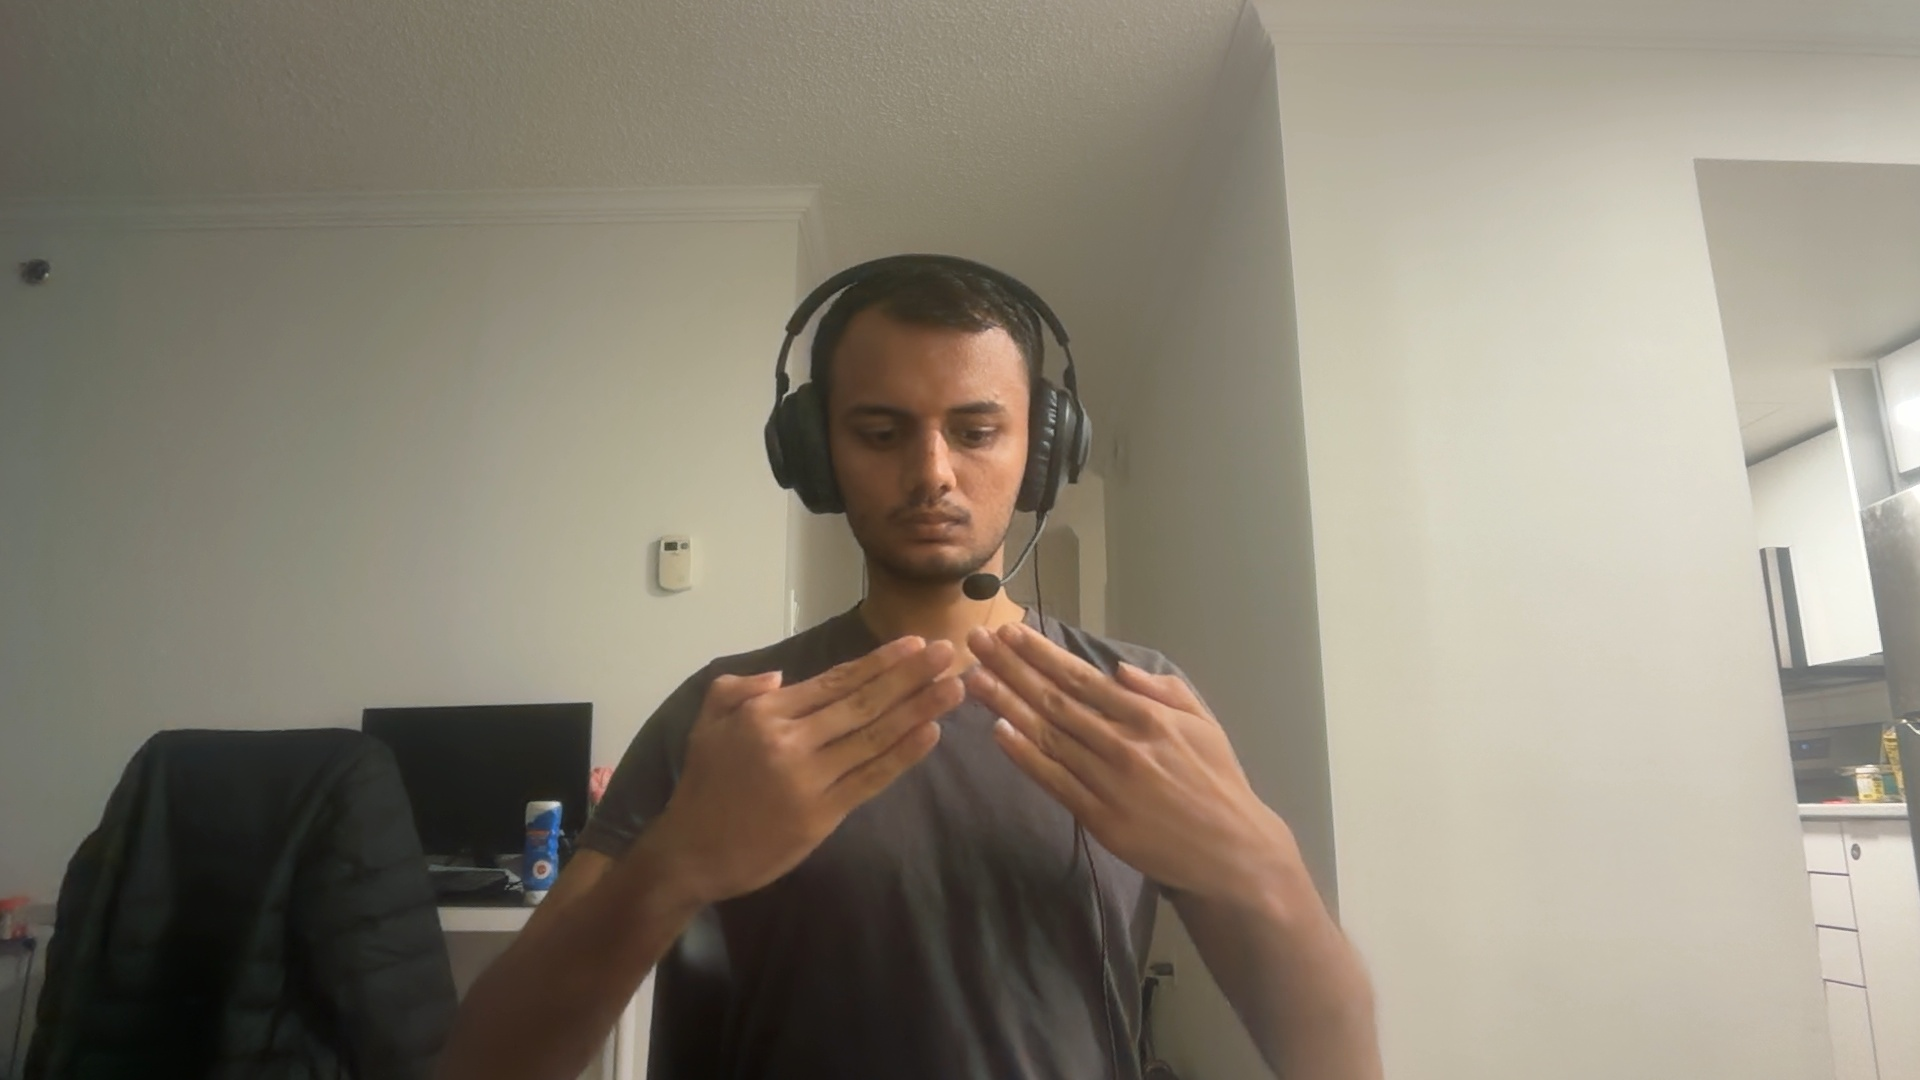thankyou: (673, 620, 1271, 895)
